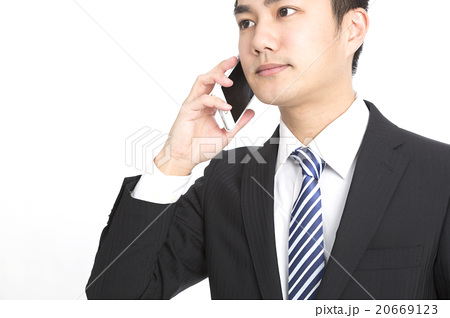phone: (186, 50, 257, 136)
talk: (169, 1, 317, 160)
